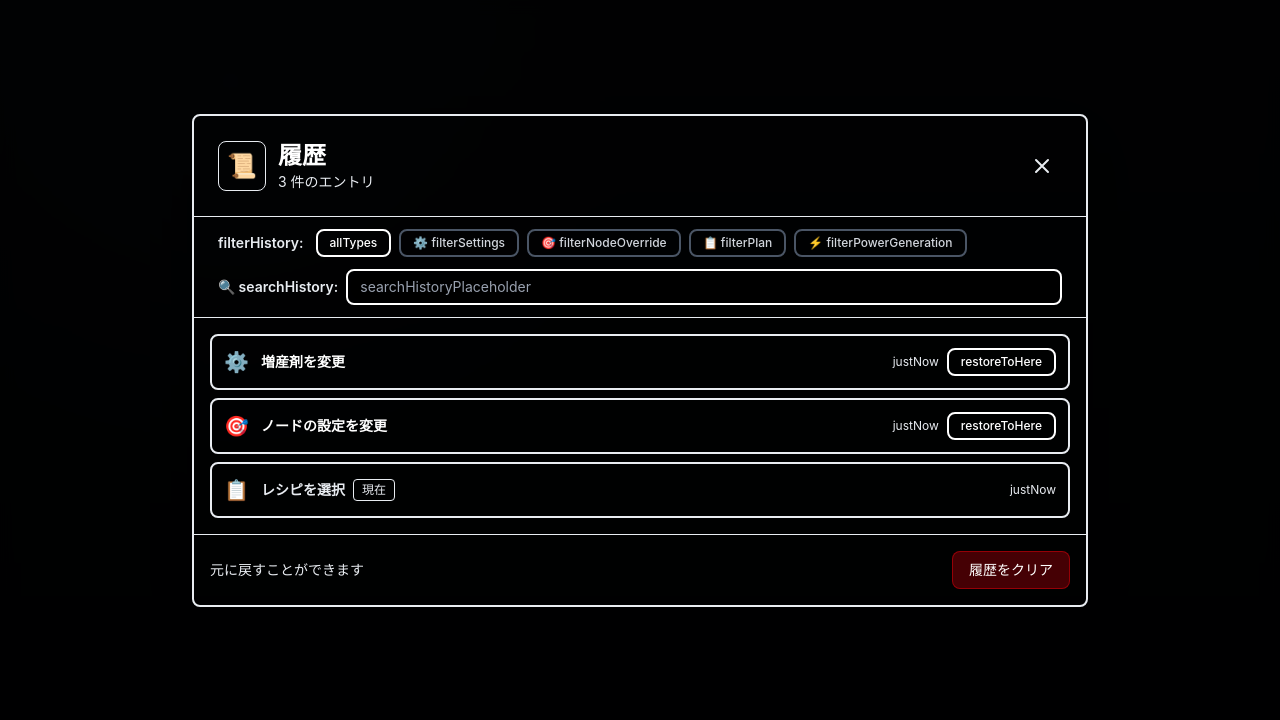
HistoryDialog › Search Functionality › should clear search when clicking clear button
In the field with placeholder "searchHistoryPlaceholder": (704, 286) x1=346 y1=268 x2=1062 y2=304, type "test"
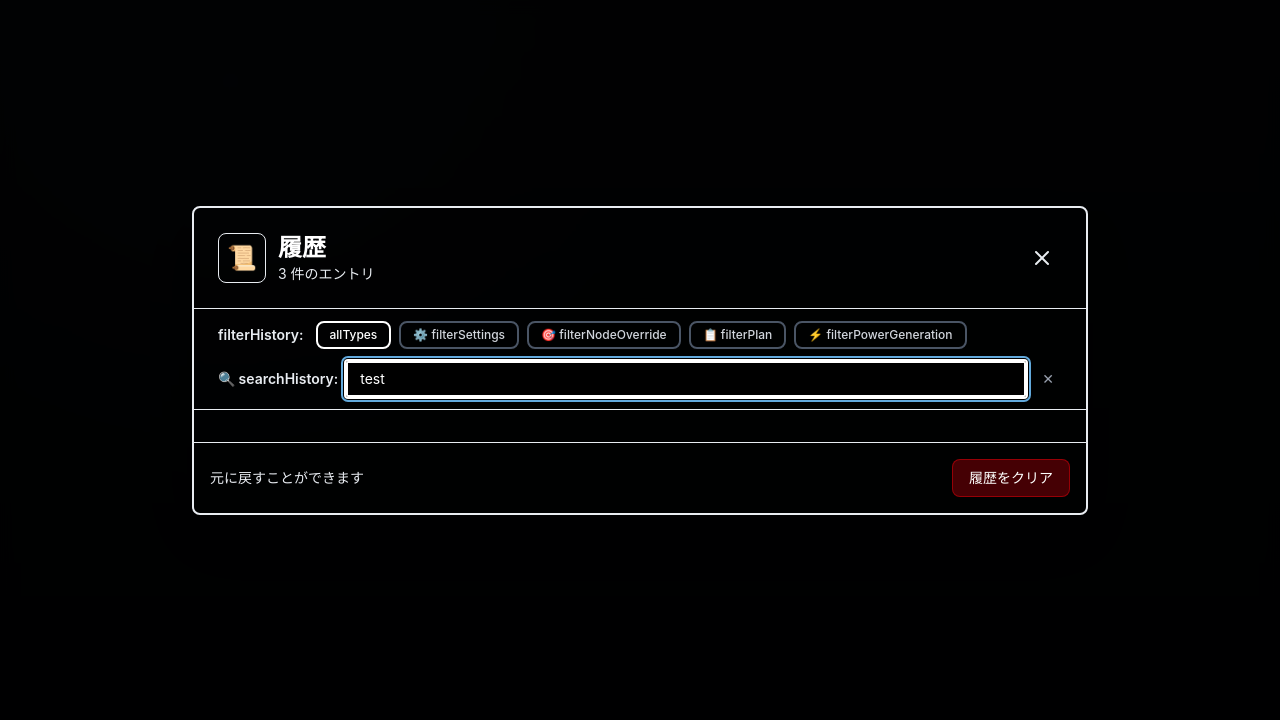
Click the button "✕": (1048, 378) x1=1034 y1=364 x2=1062 y2=392
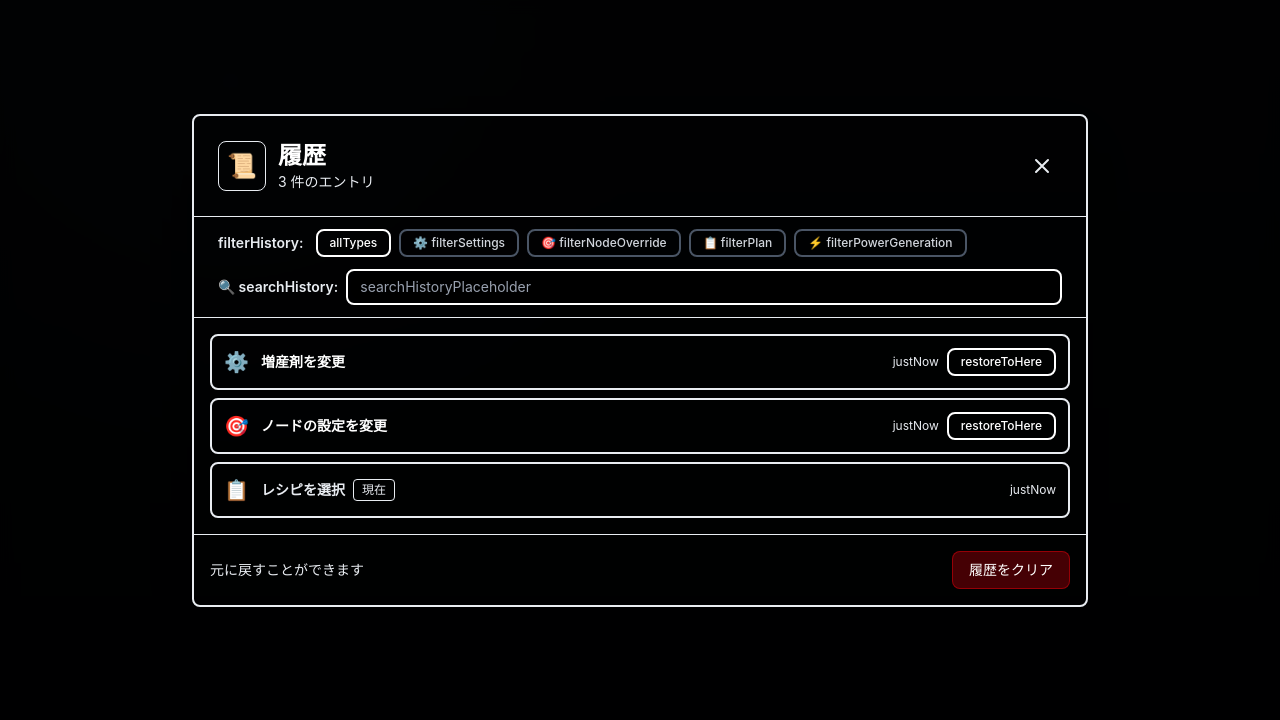
Expected: the field with placeholder "searchHistoryPlaceholder" is empty, x1=346 y1=268 x2=1062 y2=304
